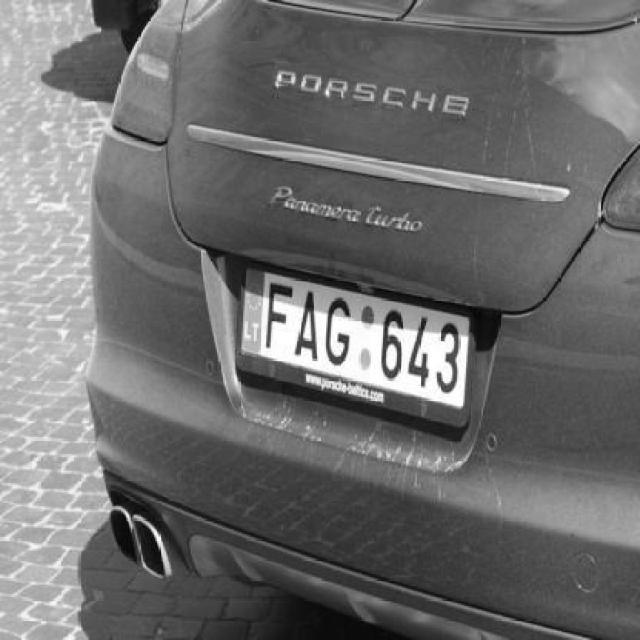car: (75, 0, 640, 640)
license-plate: (226, 264, 489, 462)
